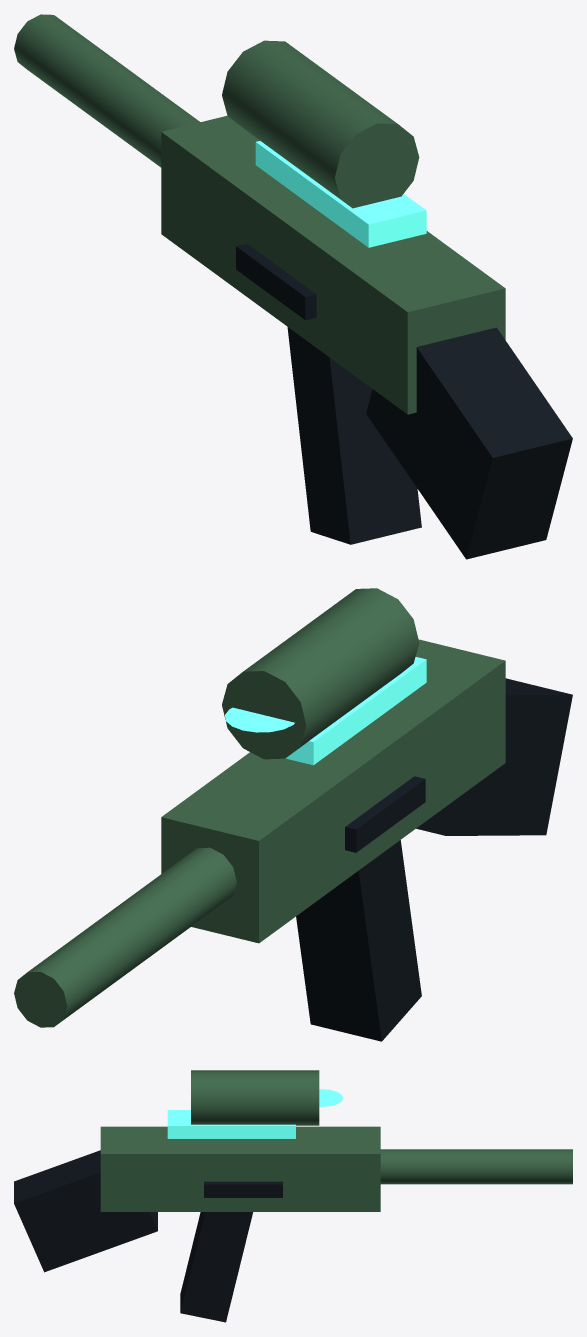
The model's file is ranger-br3.glb.
3 views of the same model, one above another, from view 1: azimuth 30°, elevation 25°; view 2: azimuth 150°, elevation 25°; view 3: azimuth 270°, elevation 25° (orthographic). The views are drawn at different scales.
Visible parts, largest first — view 1: ranger-br3; view 2: ranger-br3; view 3: ranger-br3.
Boxes of the visible parts, box(x1,y1,x2,y2) form: ranger-br3: box(14, 14, 572, 559); ranger-br3: box(14, 588, 572, 1041); ranger-br3: box(14, 1070, 572, 1322).
Size of the model in its own units: 0.27 by 0.9072 by 1.92.
